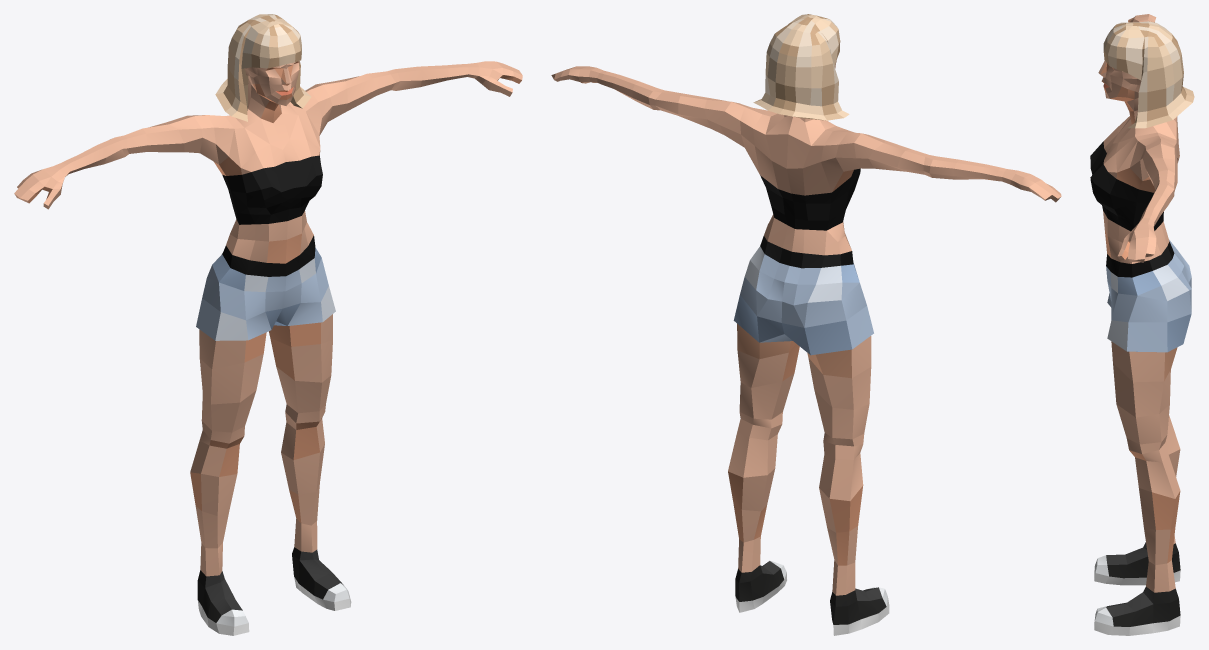
The model's file is casual_Female_K-model.obj.
The picture shows the model from 3 angles, left to right: view 1: azimuth 30°, elevation 25°; view 2: azimuth 150°, elevation 25°; view 3: azimuth 270°, elevation 25°; orthographic projection.
Visible parts, largest first — view 1: casual_Female_K, acc_hair_punkin; view 2: casual_Female_K, acc_hair_punkin; view 3: casual_Female_K, acc_hair_punkin.
Boxes of the visible parts, x1,y1,x2,y2 form: casual_Female_K: (14, 61, 522, 635); acc_hair_punkin: (215, 14, 311, 121); casual_Female_K: (551, 59, 1061, 635); acc_hair_punkin: (753, 14, 849, 120); casual_Female_K: (1090, 14, 1191, 635); acc_hair_punkin: (1103, 21, 1194, 128).
Bounding box in the file's own units: 153 × 170 × 27.67.
